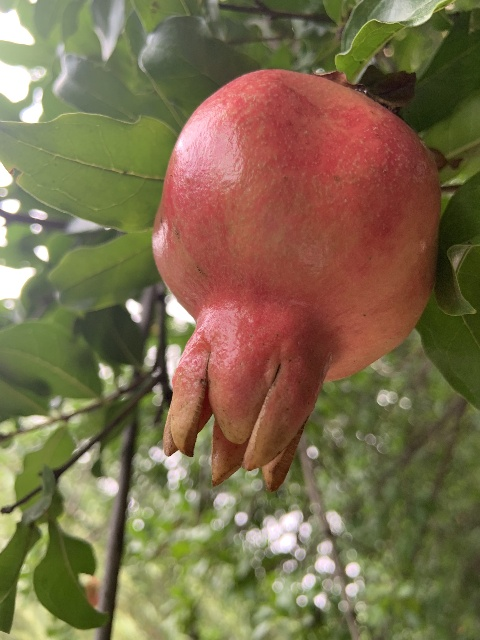ripe: (152, 69, 440, 490)
